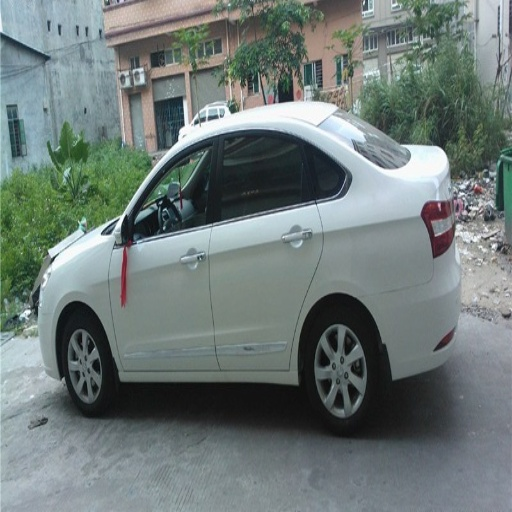back_bumper: (375, 278, 459, 378)
back_glass: (350, 122, 412, 168)
back_left_door: (209, 128, 320, 367)
